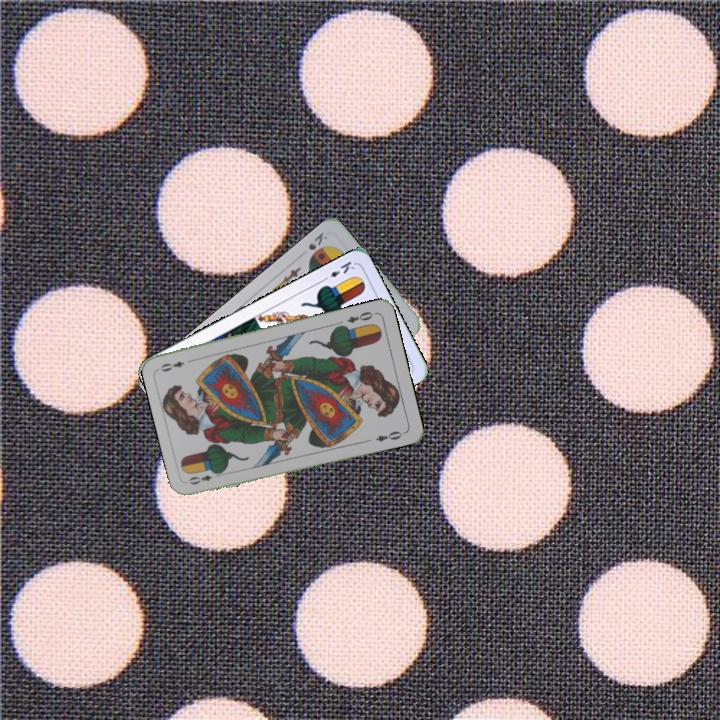EK: (318, 257, 357, 284)
EO: (184, 468, 224, 487), (343, 307, 378, 325)
SK: (304, 228, 330, 253)
